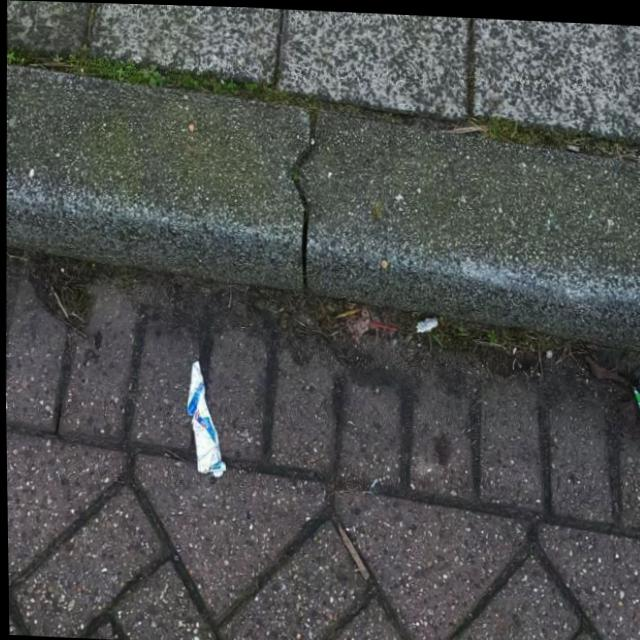Can-Metal: (182, 355, 227, 478)
Paper: (628, 366, 640, 463)
